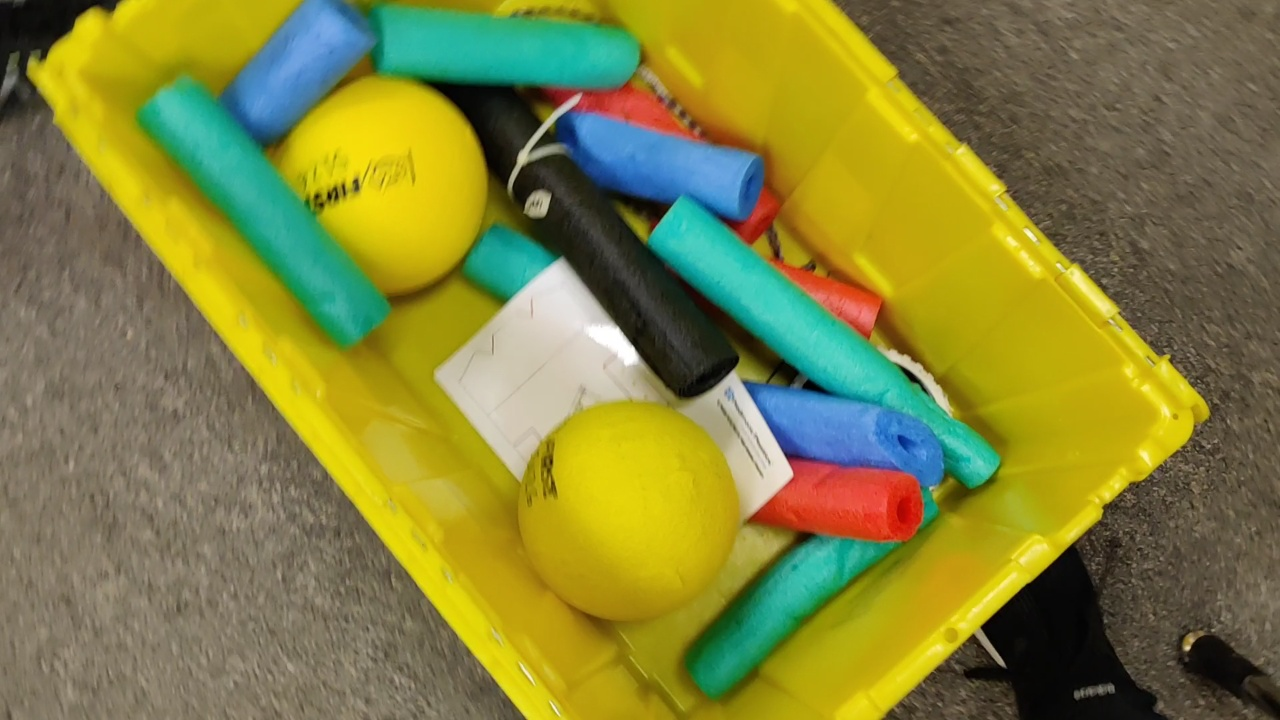Ball: (264, 74, 490, 297), (521, 399, 742, 621)
